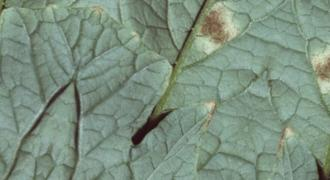Tomato mold leaf: (27, 0, 303, 180), (27, 0, 293, 180)
